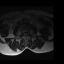CCS_stenosis: (24, 31, 26, 37)
LFS_stenosis: (27, 31, 29, 35)
LLS_stenosis: (26, 31, 27, 36)
RFS_stenosis: (22, 31, 23, 35)
RLS_stenosis: (23, 31, 24, 35)
